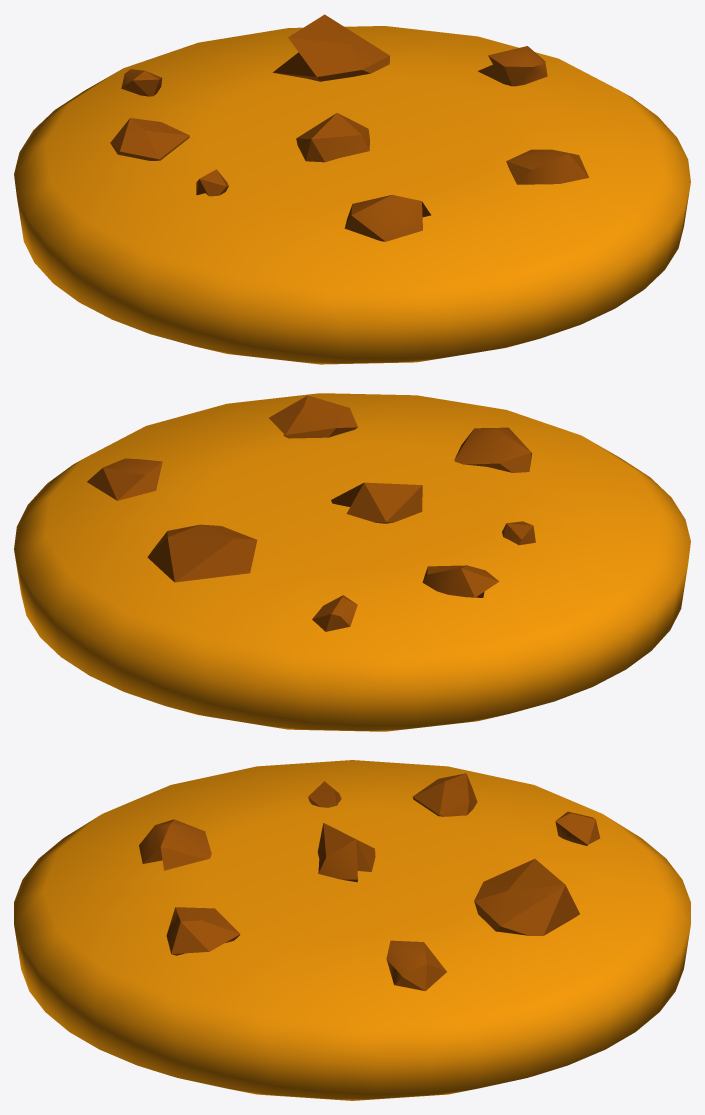
File: Cookie.fbx
3 renders of one model, top to bottom at view 1: azimuth 30°, elevation 25°; view 2: azimuth 150°, elevation 25°; view 3: azimuth 270°, elevation 25°, orthographic.
Visible parts, largest first — view 1: Cookie; view 2: Cookie; view 3: Cookie.
Boxes of the visible parts, left/top/right/bottom form: Cookie: left=14, top=14, right=690, bottom=364; Cookie: left=14, top=393, right=690, bottom=731; Cookie: left=14, top=760, right=690, bottom=1100.
Size of the model in its own units: 0.3743 by 0.0796 by 0.3743.
